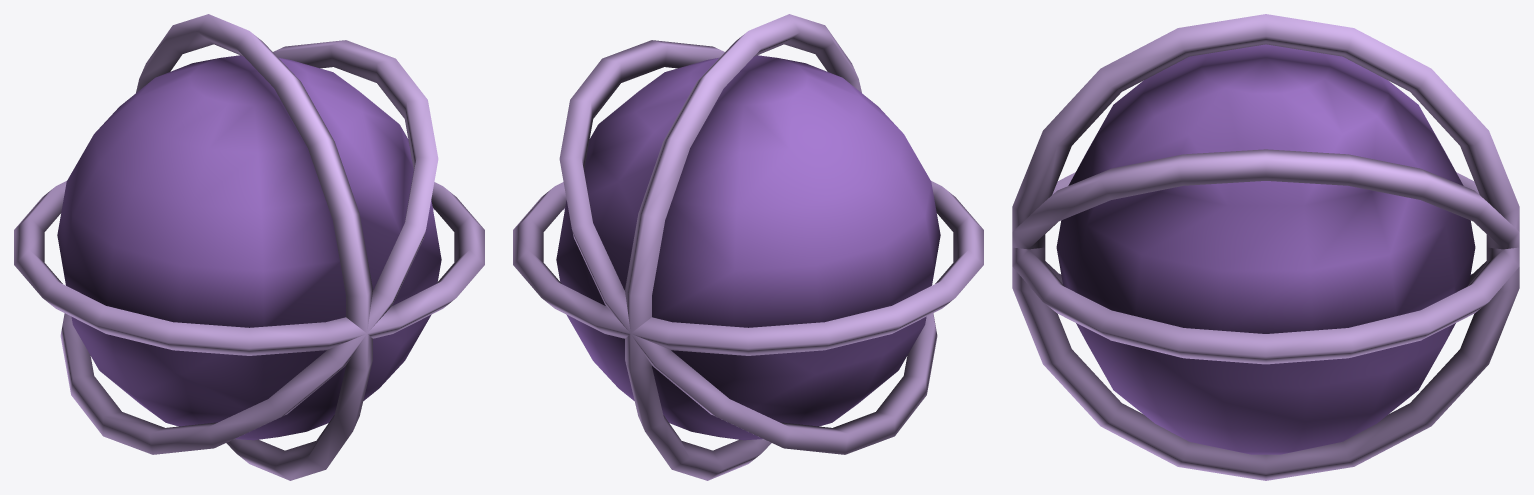
Rendered from VoidGenerator.fbx.
The picture shows the model from 3 angles, left to right: view 1: azimuth 30°, elevation 25°; view 2: azimuth 150°, elevation 25°; view 3: azimuth 270°, elevation 25°; orthographic projection. The views are drawn at different scales.
Visible parts, largest first — view 1: void; view 2: void; view 3: void.
Boxes of the visible parts, <box> form: void: <box>14,14,484,480</box>; void: <box>513,14,983,480</box>; void: <box>1012,14,1519,480</box>.
Bounding box in the file's own units: 0.3936 × 0.3936 × 0.3876.
